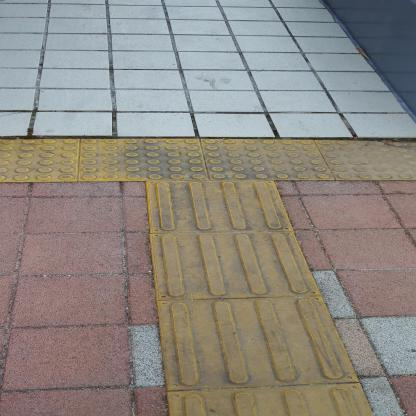podotacti: (129, 172, 385, 416), (0, 129, 415, 188)
